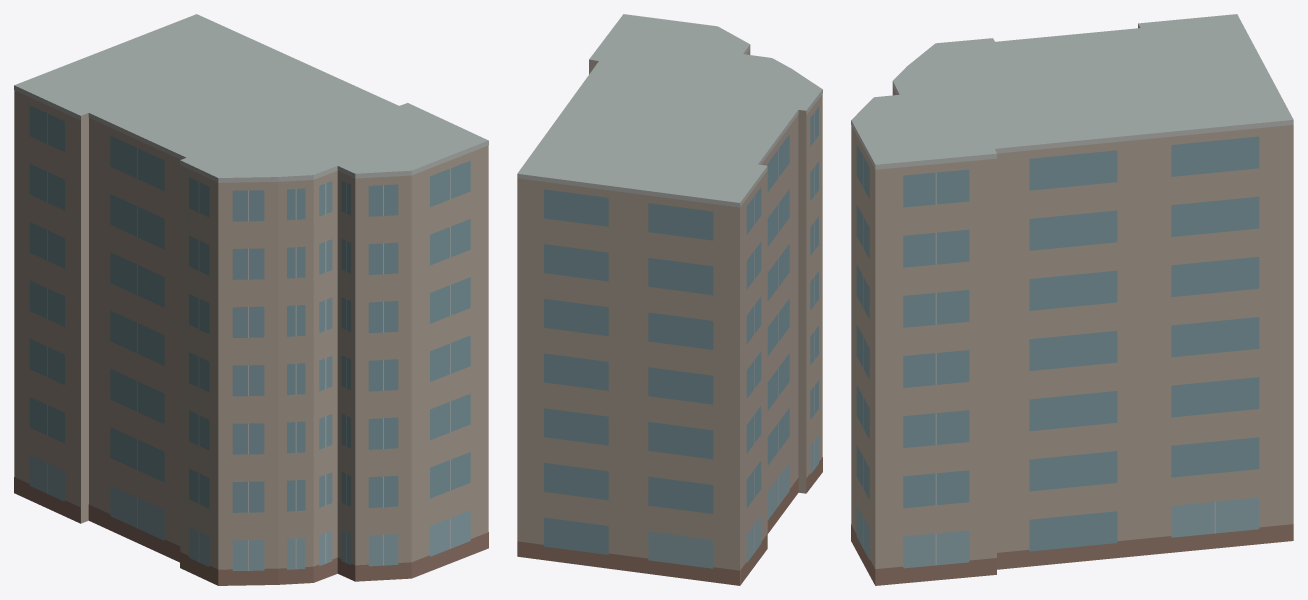
Rendered from survey-upis-32862306.glb.
3 views of the same model, side by side, from view 1: azimuth 30°, elevation 25°; view 2: azimuth 150°, elevation 25°; view 3: azimuth 270°, elevation 25° (orthographic). The views are drawn at different scales.
Visible parts, largest first — view 1: survey-upis-32862306.tmp; view 2: survey-upis-32862306.tmp; view 3: survey-upis-32862306.tmp.
Part boxes in pixels (left/top/right/bottom): survey-upis-32862306.tmp: left=14, top=14, right=488, bottom=585; survey-upis-32862306.tmp: left=517, top=14, right=822, bottom=585; survey-upis-32862306.tmp: left=851, top=14, right=1293, bottom=585.
Size of the model in its own units: 15.91 by 20.7 by 19.73.
